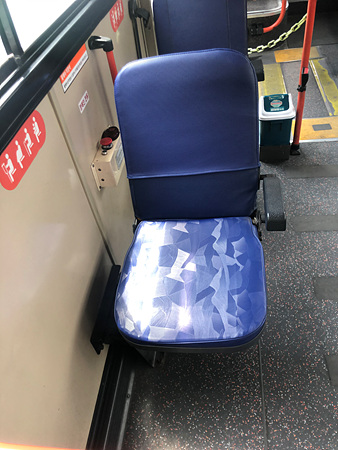seat: (108, 51, 268, 345)
